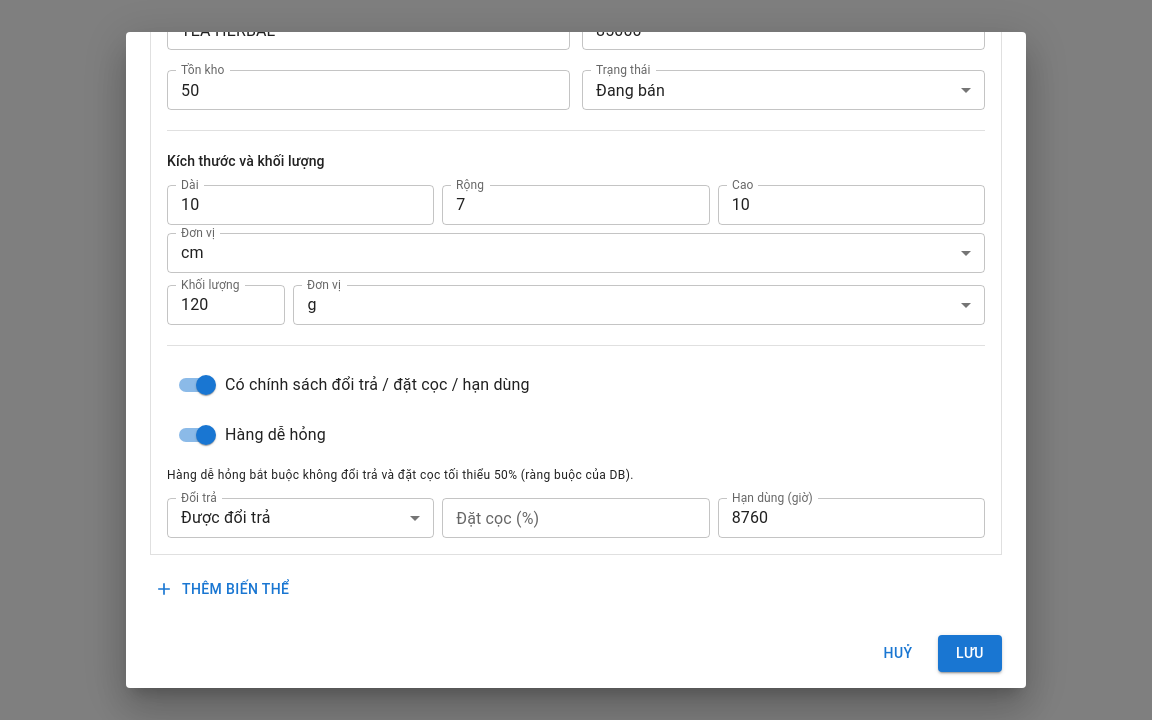
ProductFormDialog › hàng dễ hỏng cần không đổi trả và cọc ≥ 50%: báo lỗi trong thẻ Biến thể
Earlier steps of the test are not shown.
(page scrolled)
Press the mouse on the button "Lưu" at x=970, y=654, box [938, 635, 1002, 672]
Press the mouse on the button "Lưu" at x=970, y=654, box [938, 635, 1002, 672]
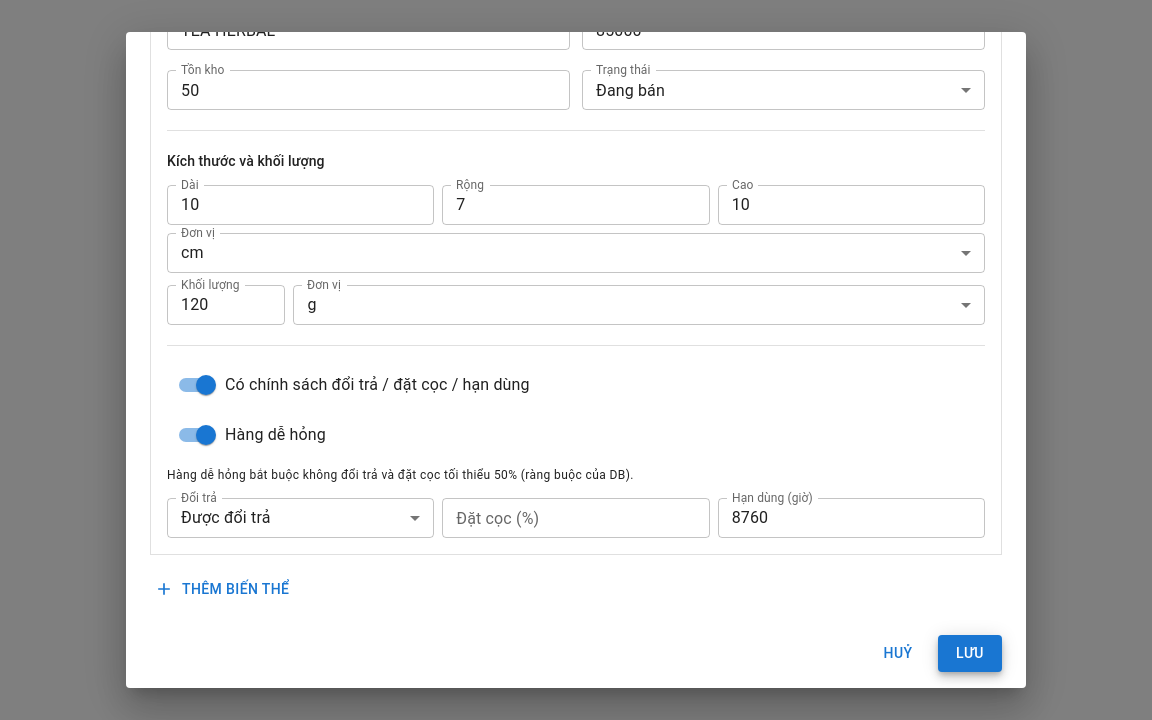
Click the button "Lưu". click: x=970, y=654
box: [938, 635, 1002, 672]
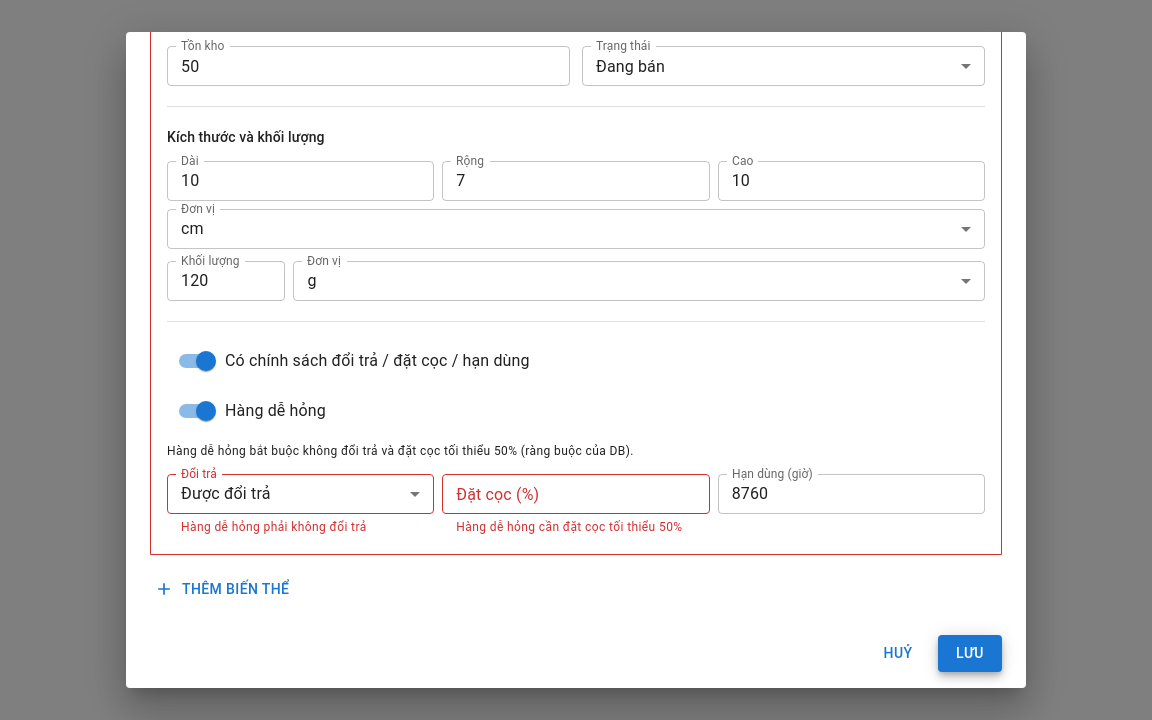
Now the text "Hàng dễ hỏng phải không đổi trả" is shown, box [181, 520, 367, 534]
Now the text "Hàng dễ hỏng cần đặt cọc tối thiểu 50%" is shown, box [456, 518, 696, 538]
